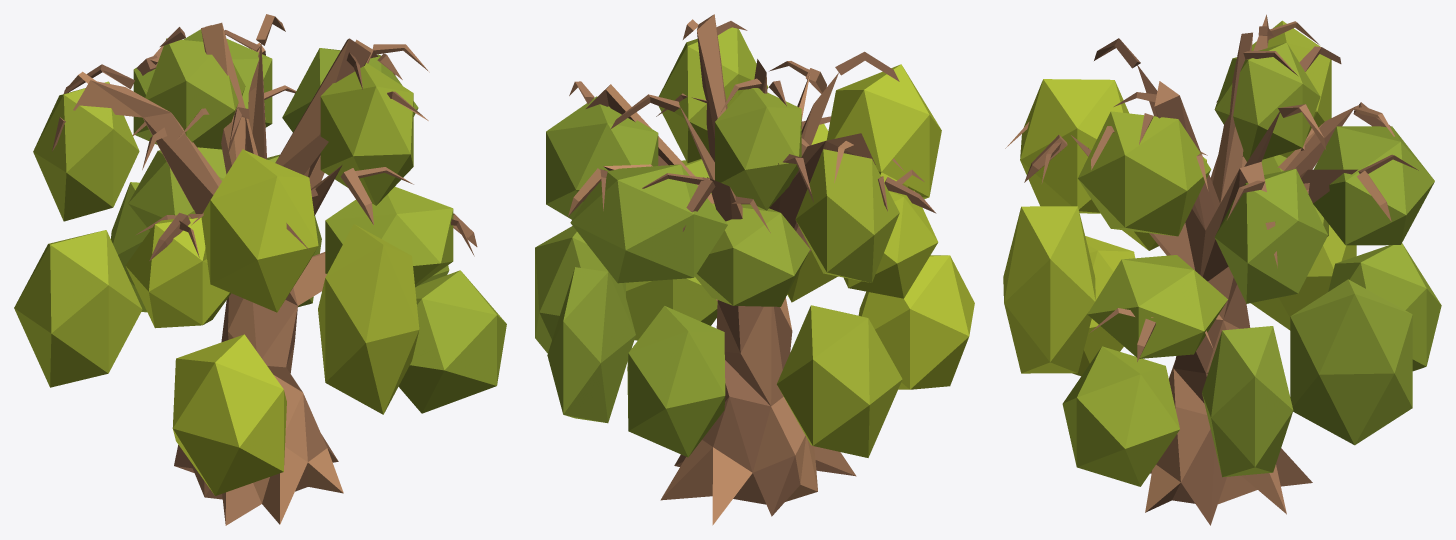
File: giant_willow_bloom_far.glb
3 renders of one model, left to right at view 1: azimuth 30°, elevation 25°; view 2: azimuth 150°, elevation 25°; view 3: azimuth 270°, elevation 25°, orthographic. The views are drawn at different scales.
Visible parts, largest first — view 1: giant_willow_bloom_far; view 2: giant_willow_bloom_far; view 3: giant_willow_bloom_far.
Boxes of the visible parts, x1,y1,x2,y2 form: giant_willow_bloom_far: (14,14,506,525); giant_willow_bloom_far: (535,14,974,525); giant_willow_bloom_far: (1003,14,1441,525).
Size of the model in its own units: 22.07 by 24.7 by 22.07.
